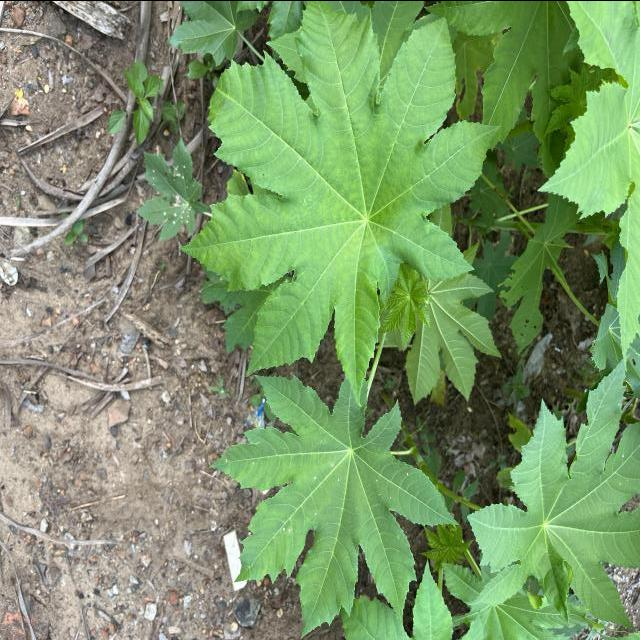Ricinus communis linn: (175, 0, 508, 413), (204, 360, 465, 640), (464, 346, 640, 637)
